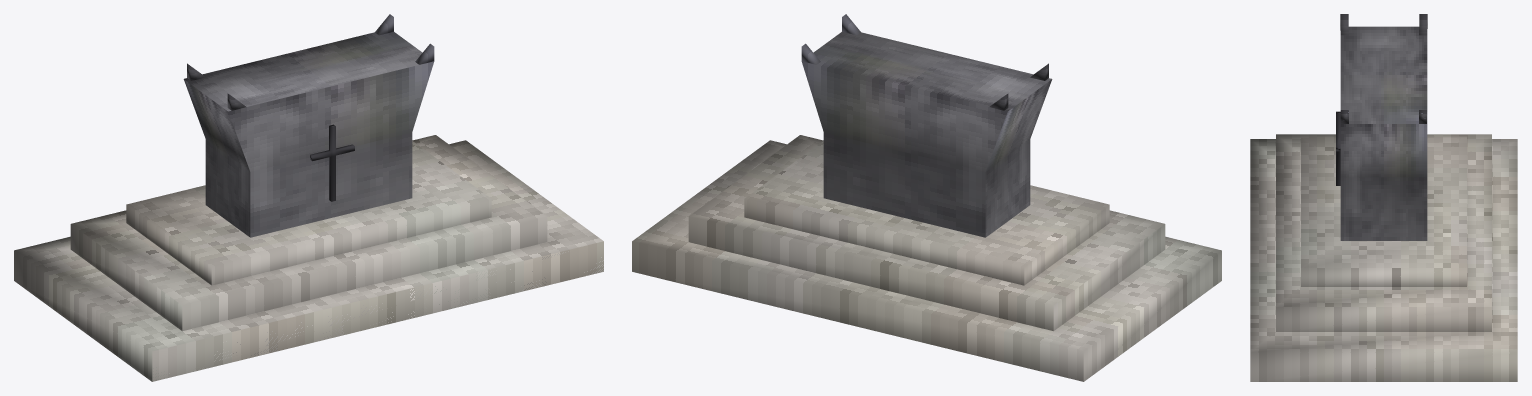
The model's file is Grave1.fbx.
3 views of the same model, side by side, from view 1: azimuth 30°, elevation 25°; view 2: azimuth 150°, elevation 25°; view 3: azimuth 270°, elevation 25° (orthographic). The views are drawn at different scales.
Visible parts, largest first — view 1: Grave1; view 2: Grave1; view 3: Grave1.
Part boxes in pixels (left/top/right/bottom): Grave1: left=14, top=14, right=603, bottom=381; Grave1: left=632, top=14, right=1221, bottom=381; Grave1: left=1250, top=14, right=1517, bottom=381.
Size of the model in its own units: 13.54 by 6.33 by 7.17.
Materials: 2 (2 with a texture image).
